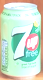sevenup: (1, 3, 41, 78)
